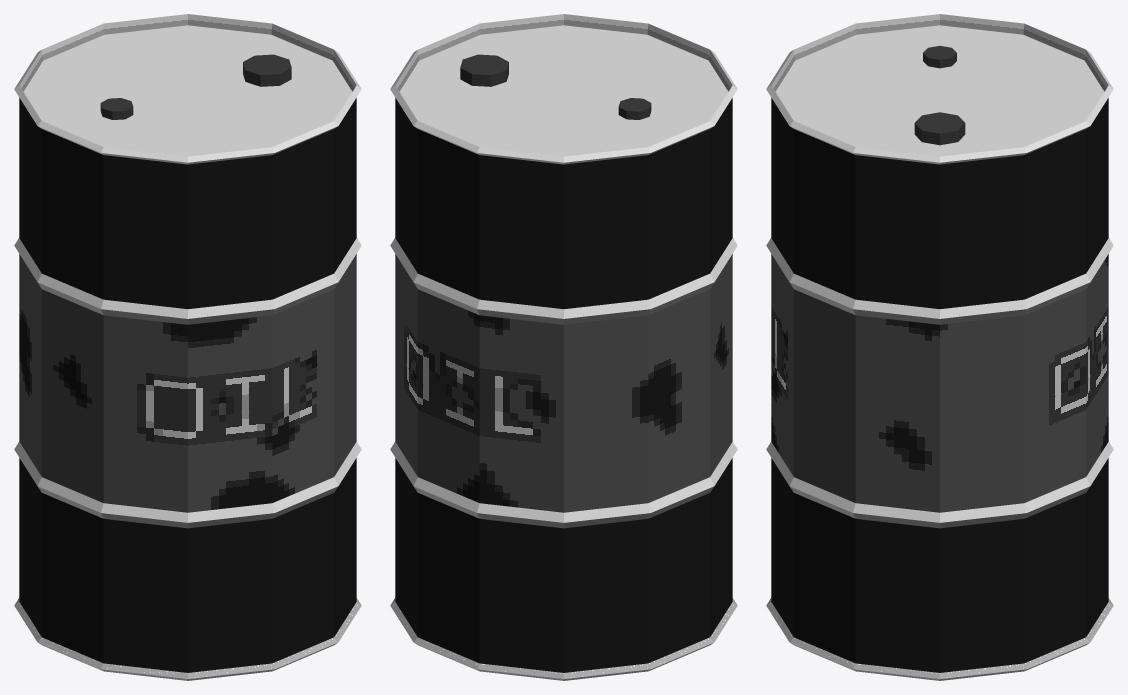
Rendered from Barrel.glb.
The picture shows the model from 3 angles, left to right: view 1: azimuth 30°, elevation 25°; view 2: azimuth 150°, elevation 25°; view 3: azimuth 270°, elevation 25°; orthographic projection.
Visible parts, largest first — view 1: Barrel-col; view 2: Barrel-col; view 3: Barrel-col.
Part boxes in pixels (<box>): Barrel-col: <box>14,14,361,680</box>; Barrel-col: <box>390,14,737,680</box>; Barrel-col: <box>766,14,1113,680</box>.
Bounding box in the file's own units: 0.721 × 1.2 × 0.721.
2 materials, 1 textured.
